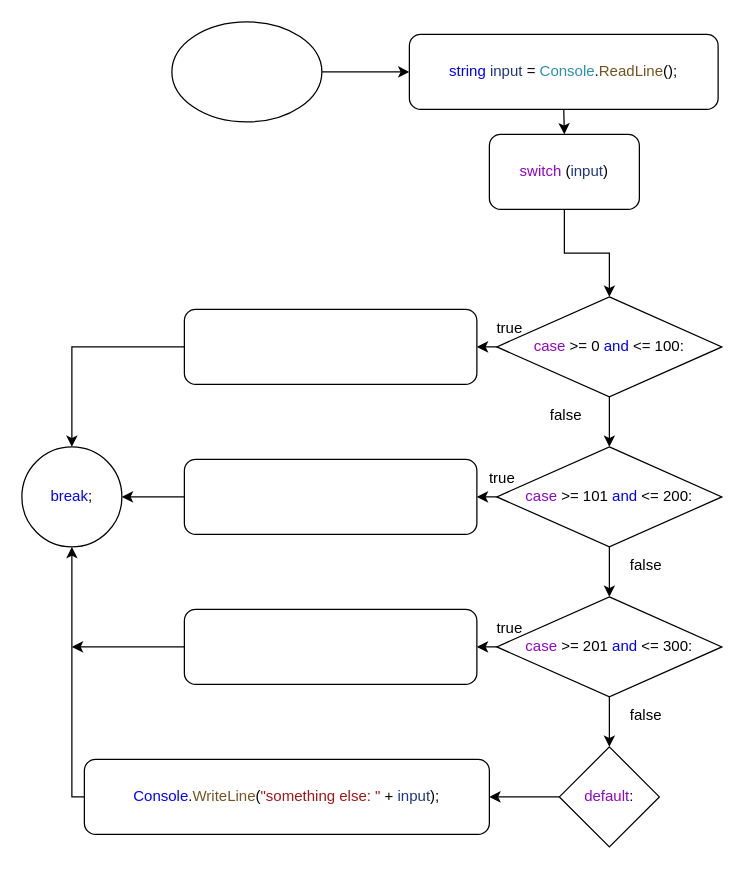
Image size: 744x869. Some labels were removed from this diagram. Here are the shapes that lost their labels. From the top down, the box of each, then its label:
(171, 21, 322, 122): start
(183, 308, 477, 384): Console . WriteLine ( "you are 10" );
(183, 458, 477, 534): Console . WriteLine ( "you are 20" );
(183, 608, 477, 684): Console . WriteLine ( "you are 30" );
